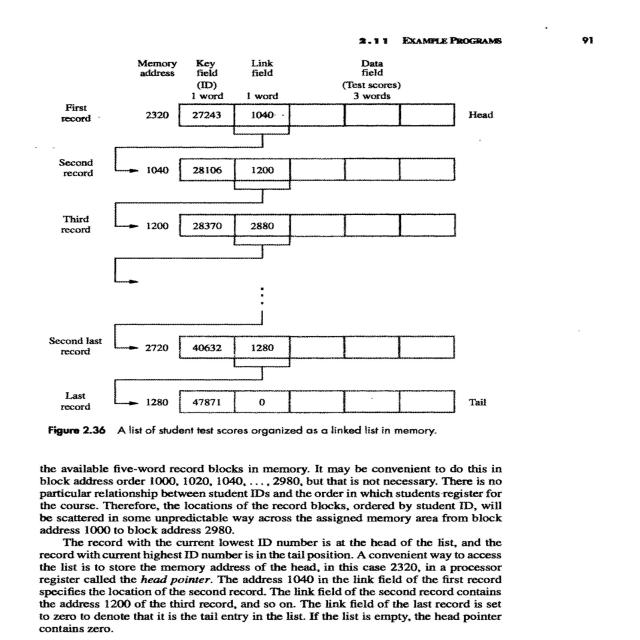diagram: (16, 49, 503, 452)
